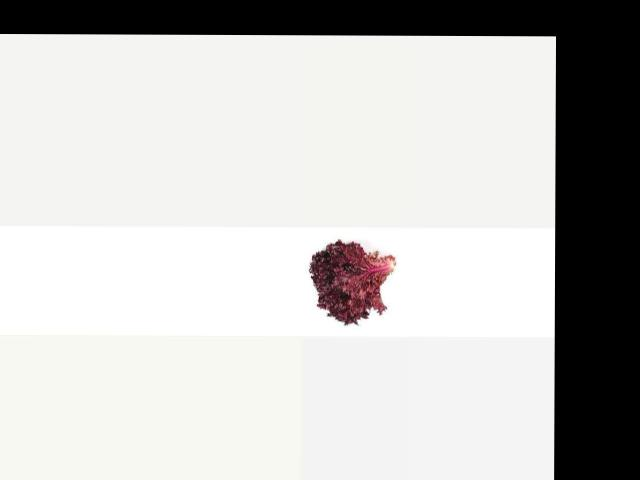lettuce: (304, 243, 404, 327)
